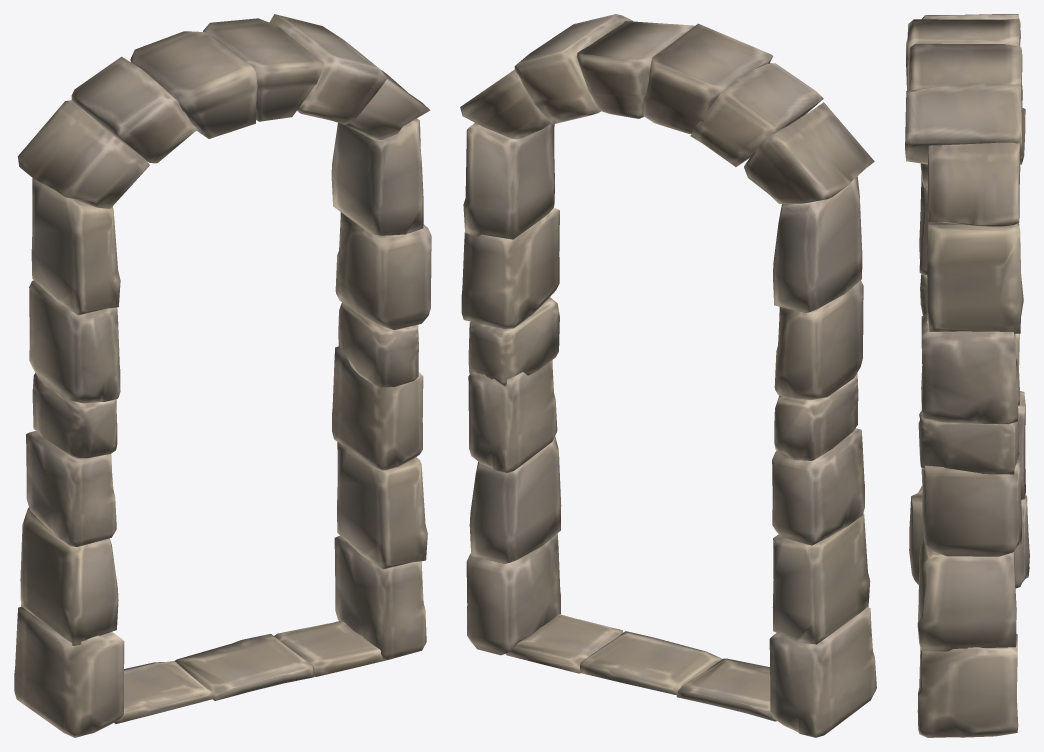
Rendered from castle-gate.glb.
The picture shows the model from 3 angles, left to right: view 1: azimuth 30°, elevation 25°; view 2: azimuth 150°, elevation 25°; view 3: azimuth 270°, elevation 25°; orthographic projection. The views are drawn at different scales.
Parts seen in each view (by area): view 1: DoorFrame_Round_Brick; view 2: DoorFrame_Round_Brick; view 3: DoorFrame_Round_Brick.
Part boxes in pixels (x1,y1,x2,y2): DoorFrame_Round_Brick: [14, 14, 431, 737]; DoorFrame_Round_Brick: [460, 14, 876, 737]; DoorFrame_Round_Brick: [905, 14, 1029, 737].
Bounding box in the file's own units: 1.6 × 2.59 × 0.4772.
Materials: 1 (1 with a texture image).
